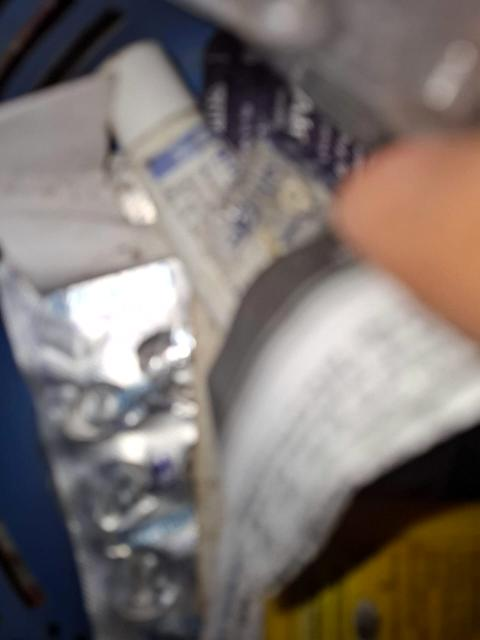medicine: (19, 253, 254, 634)
